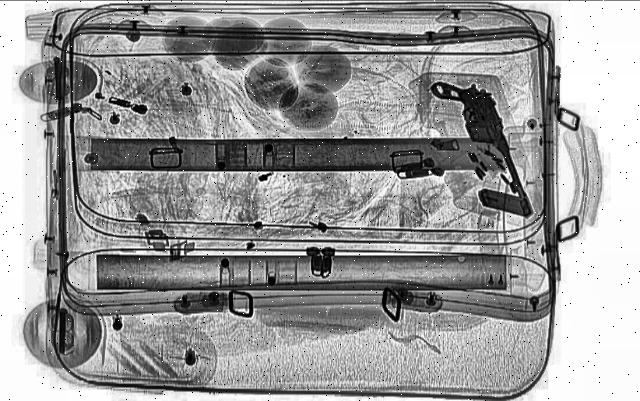Gun: (428, 77, 532, 205)
